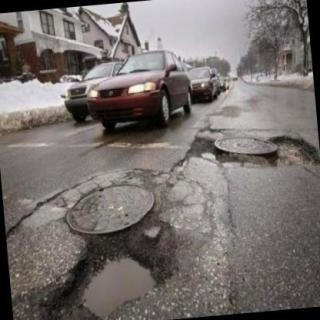pothole: (12, 213, 177, 320), (185, 135, 320, 166)
